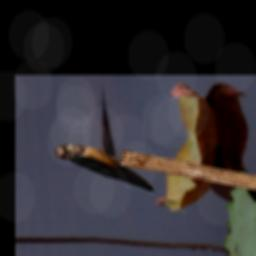Swallow: (54, 143, 158, 193)
